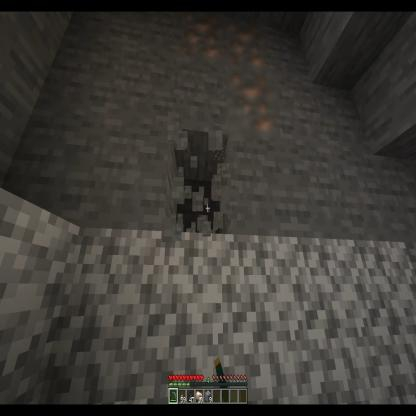iron ore: (225, 71, 279, 139), (178, 12, 228, 70), (225, 19, 267, 75)
